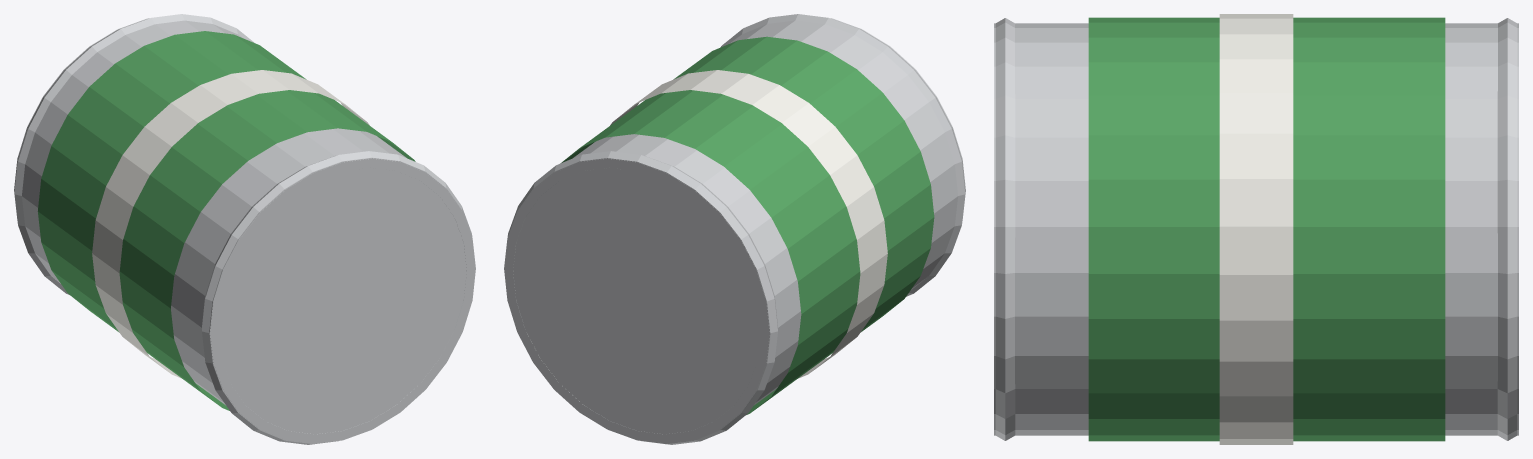
The model's file is can_1.obj.
3 renders of one model, left to right at view 1: azimuth 30°, elevation 25°; view 2: azimuth 150°, elevation 25°; view 3: azimuth 270°, elevation 25°, orthographic. The views are drawn at different scales.
Size of the model in its own units: 0.115 by 0.115 by 0.1401.
